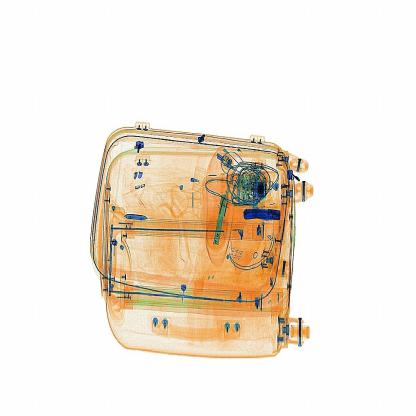knife: (239, 202, 286, 222)
